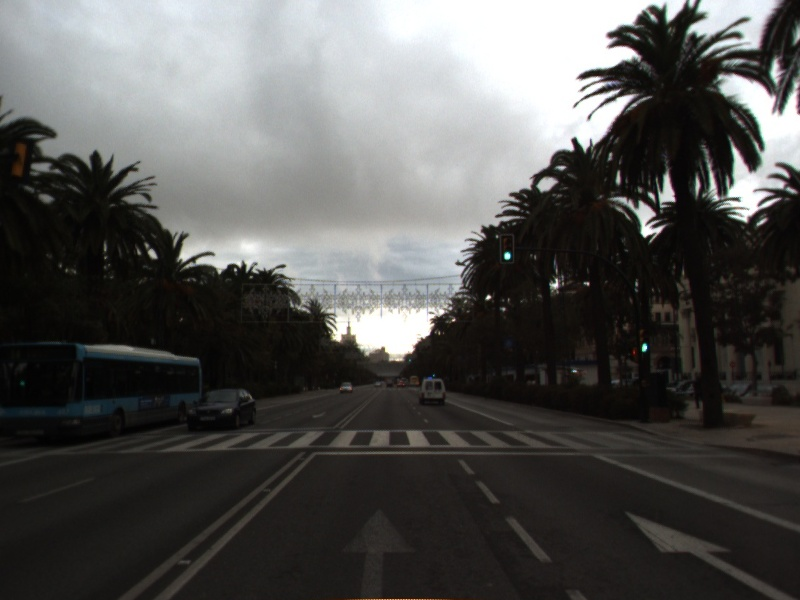STRAIGHT: (620, 507, 800, 600), (336, 503, 422, 600)
